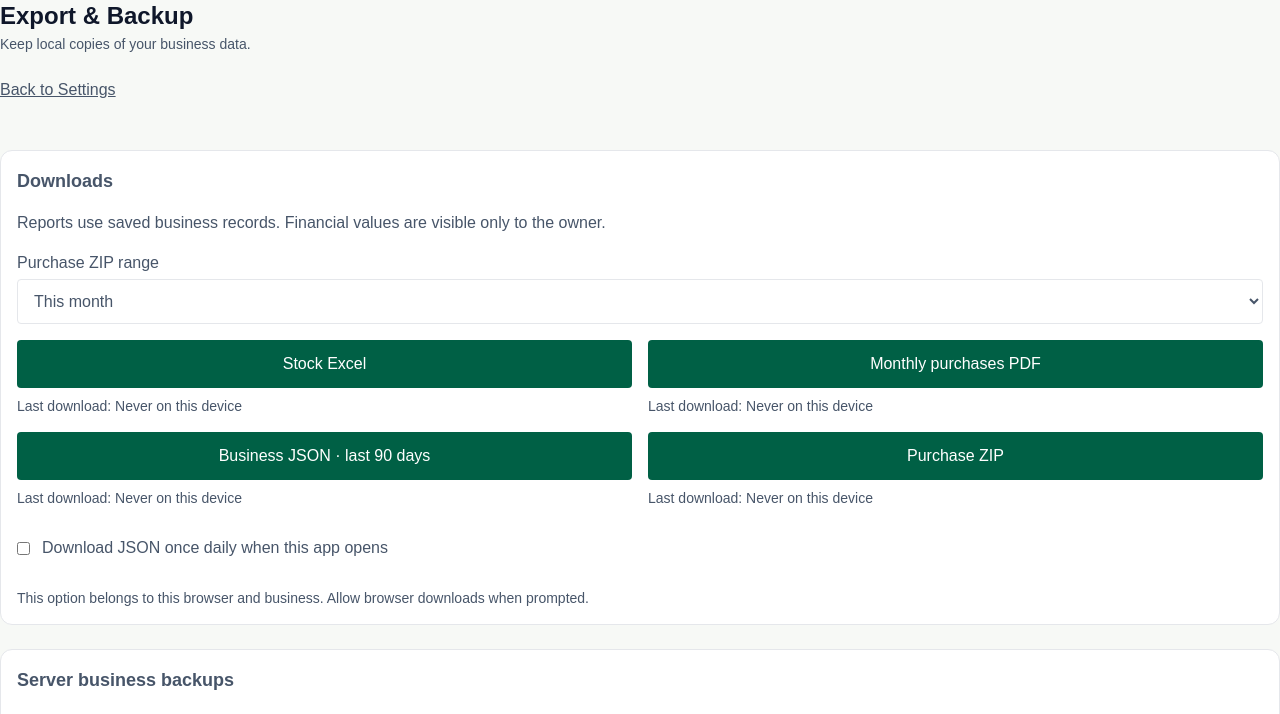
Test: uses the selected ZIP preset and reports failed downloads
Select "Last 90 days" in the dropdown labelled "Purchase ZIP range" at (640, 302), box [17,279,1263,324]
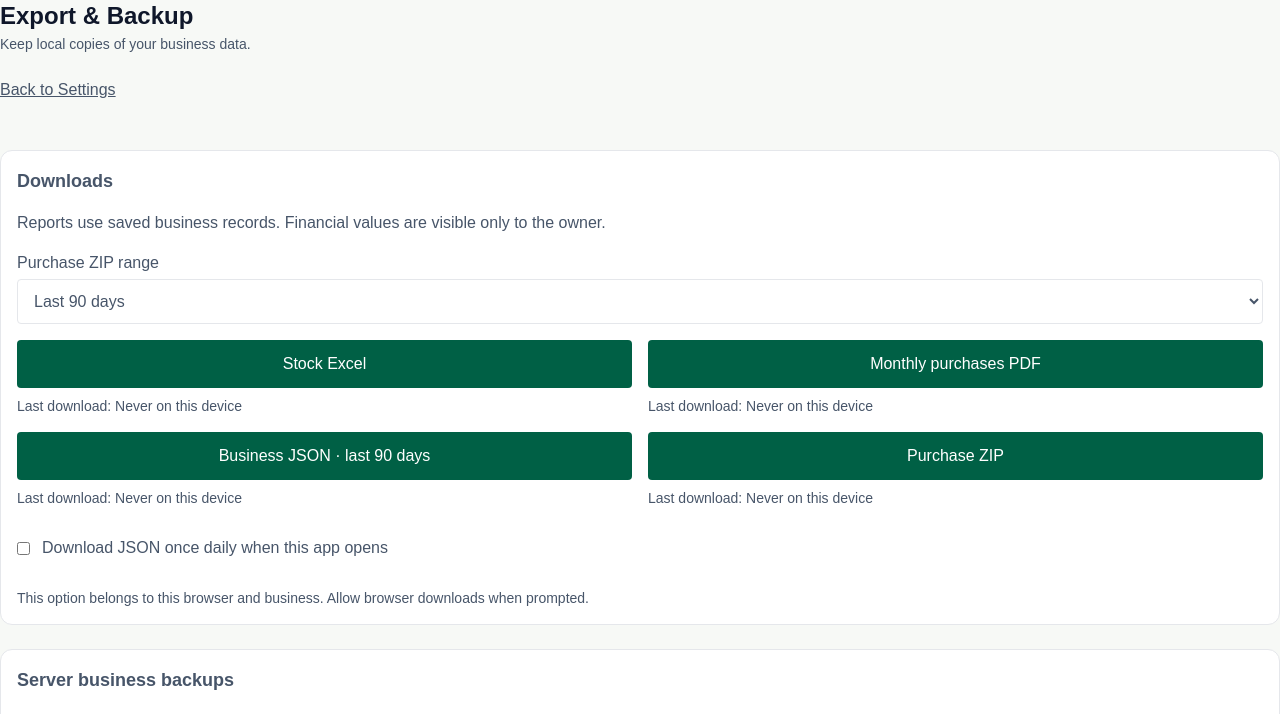
Click the button "Purchase ZIP" at (956, 456), box [648,432,1263,480]
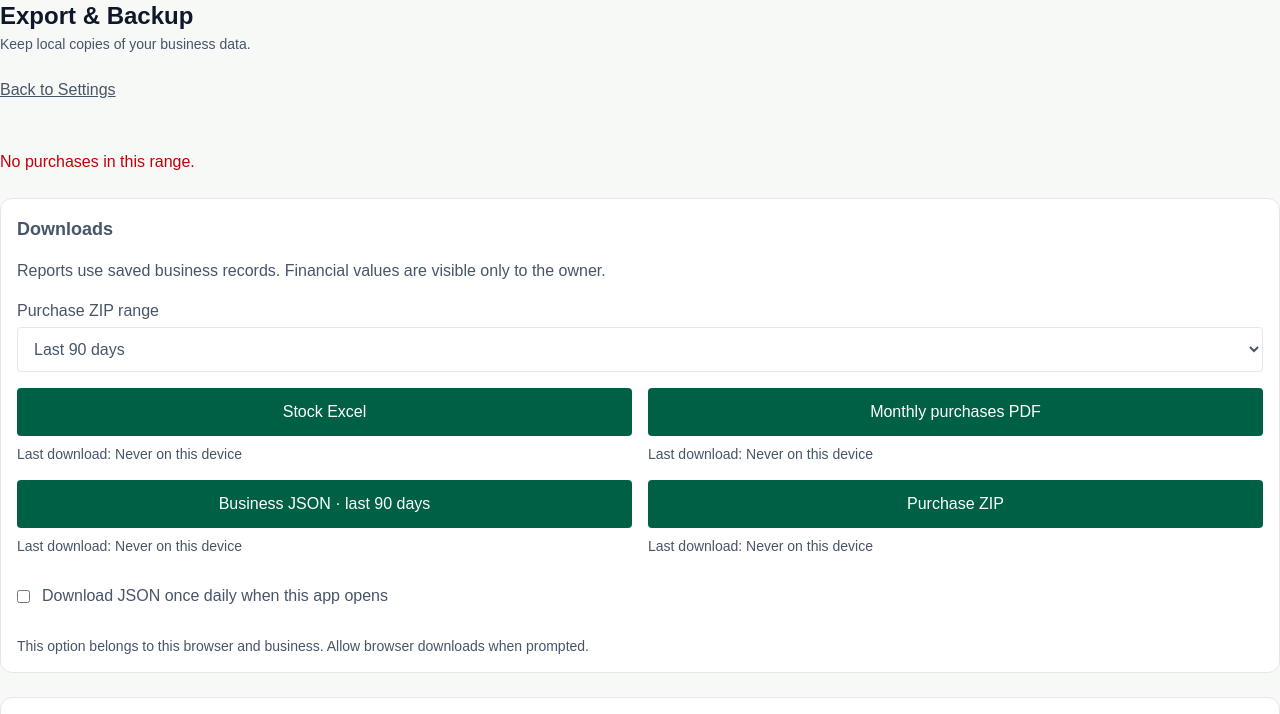
expect the text "No purchases in this range." is shown: met, box [0,153,195,170]
